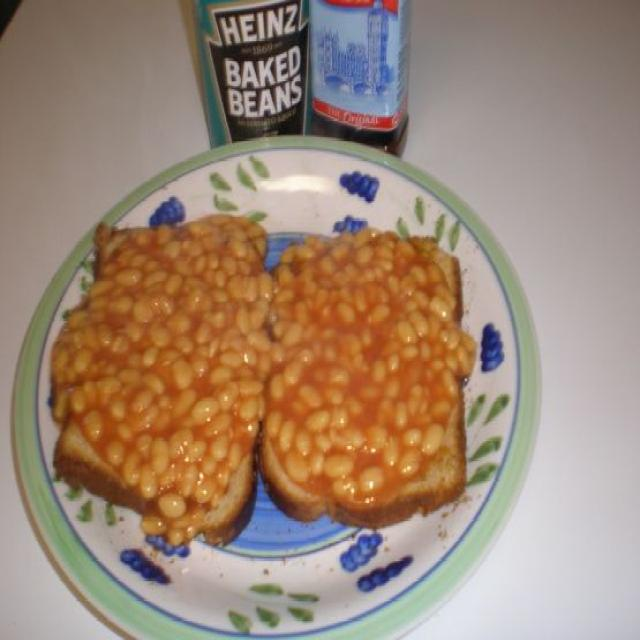beans: (52, 217, 475, 540), (158, 493, 186, 518), (325, 454, 354, 478)
sliced bread: (51, 214, 273, 543), (259, 226, 479, 528)
